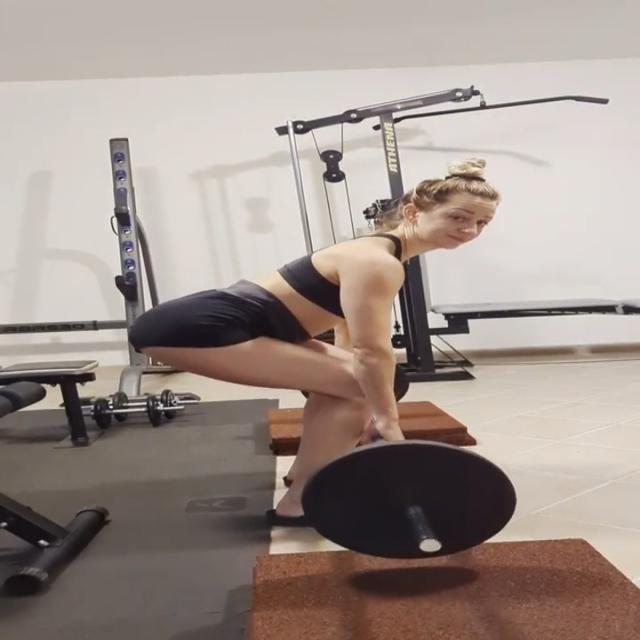barbell: (299, 436, 523, 565)
